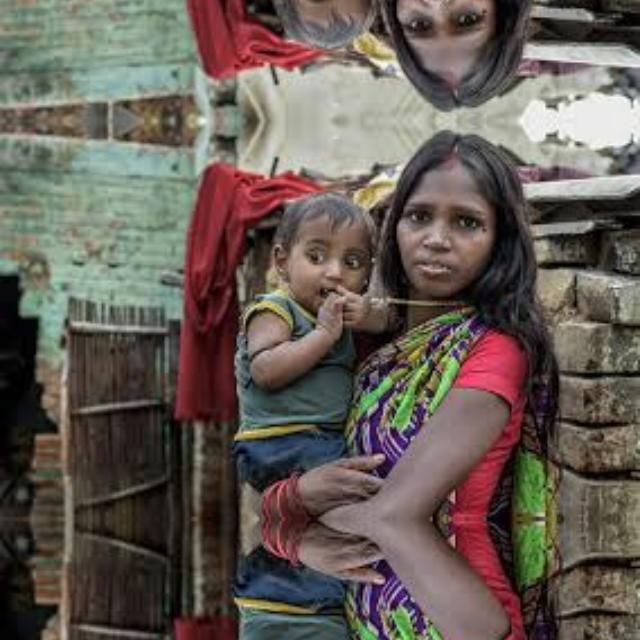person: (367, 125, 547, 519), (228, 162, 384, 504), (367, 519, 547, 640), (367, 0, 547, 115), (228, 534, 383, 640), (228, 0, 383, 78)
